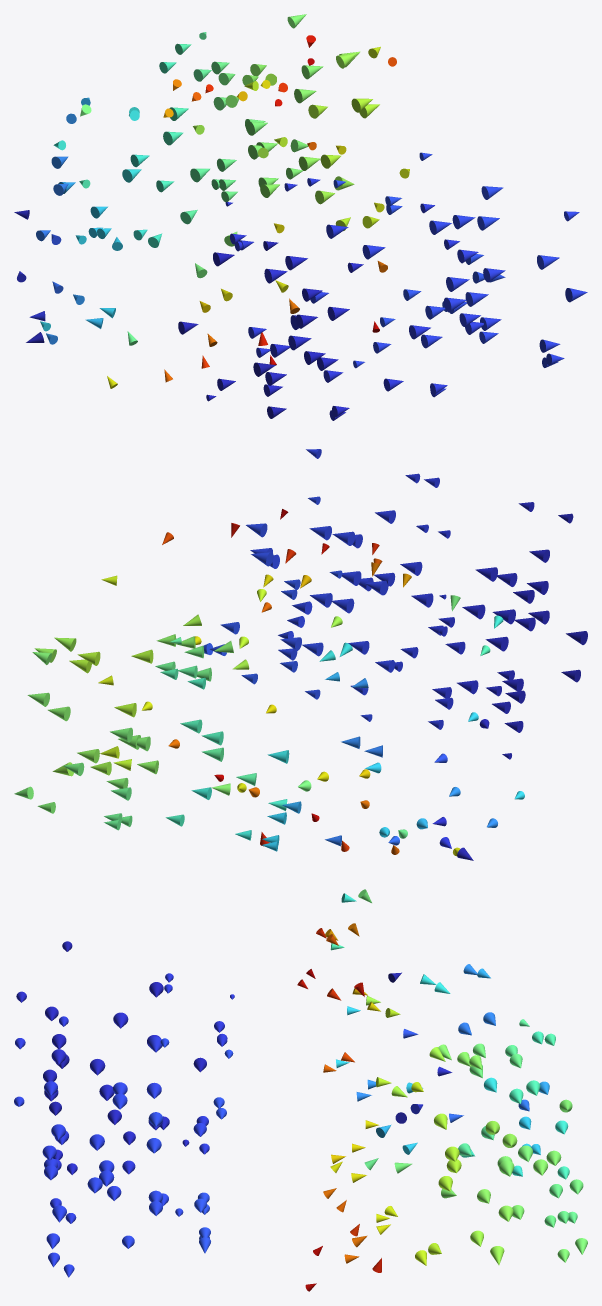
File: LineasCorrienteN2-H2O_mh2-1.38_V-1.glb
The picture shows the model from 3 angles, top to bottom: view 1: azimuth 30°, elevation 25°; view 2: azimuth 150°, elevation 25°; view 3: azimuth 270°, elevation 25°; orthographic projection.
Bounding box in the file's own units: 0.000974 × 0.000707 × 0.00119.
2 materials, 2 textured.
